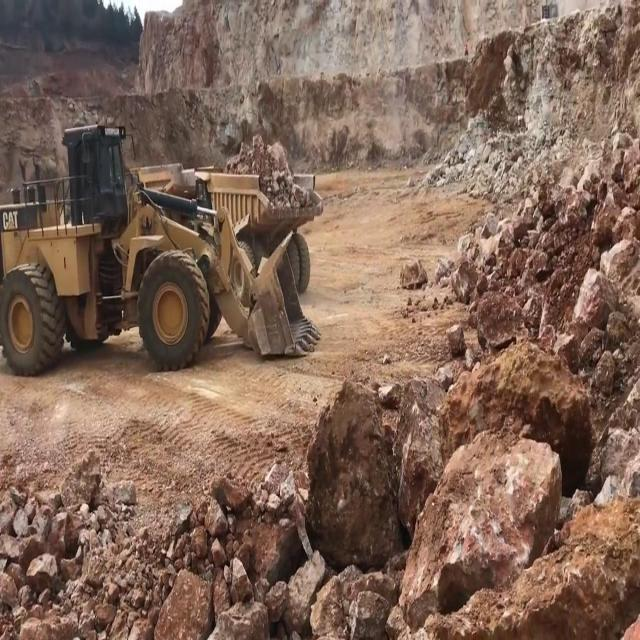buldozerpayloadergrader: (0, 122, 322, 375)
dump_truck: (195, 162, 319, 290)
